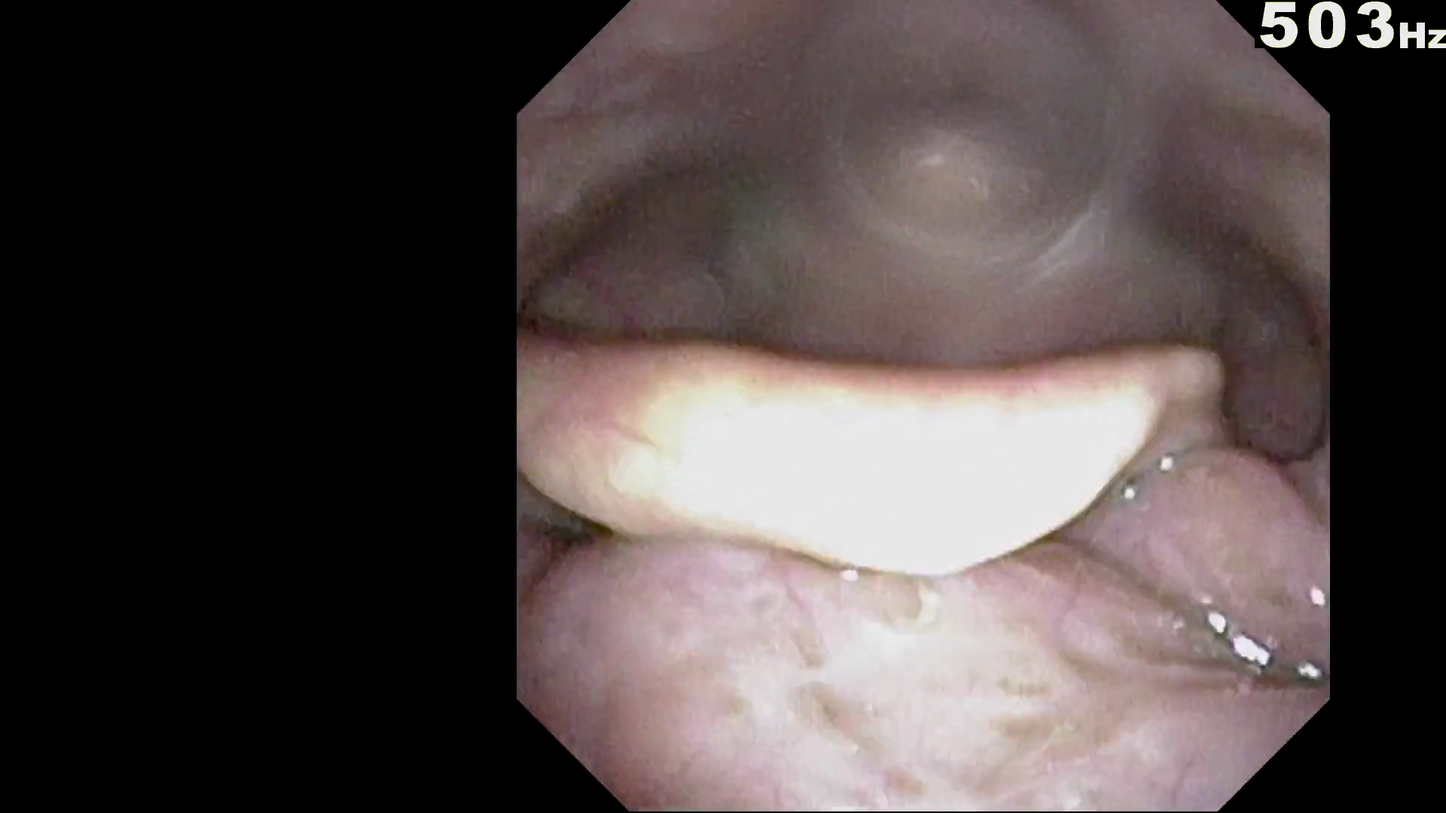epiglottis: (608, 350, 1224, 575)
